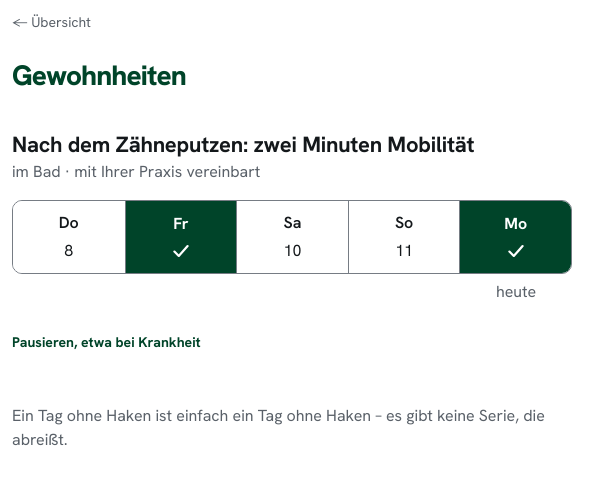
Test: Gewohnheiten auf der Plattform › nimmt einen Tipp zurück, wenn das Vermerken scheitert, und sagt es unter den Tagen
The image size is (589, 499).
Click the button named "Samstag, 10. Oktober" at (292, 237), box [236, 201, 348, 273]
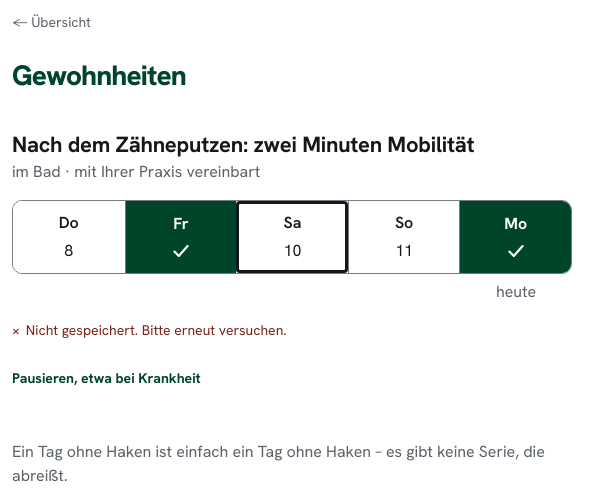
Expected: the message shows "Nicht gespeichert. Bitte erneut versuchen.", [26, 321, 287, 339]
